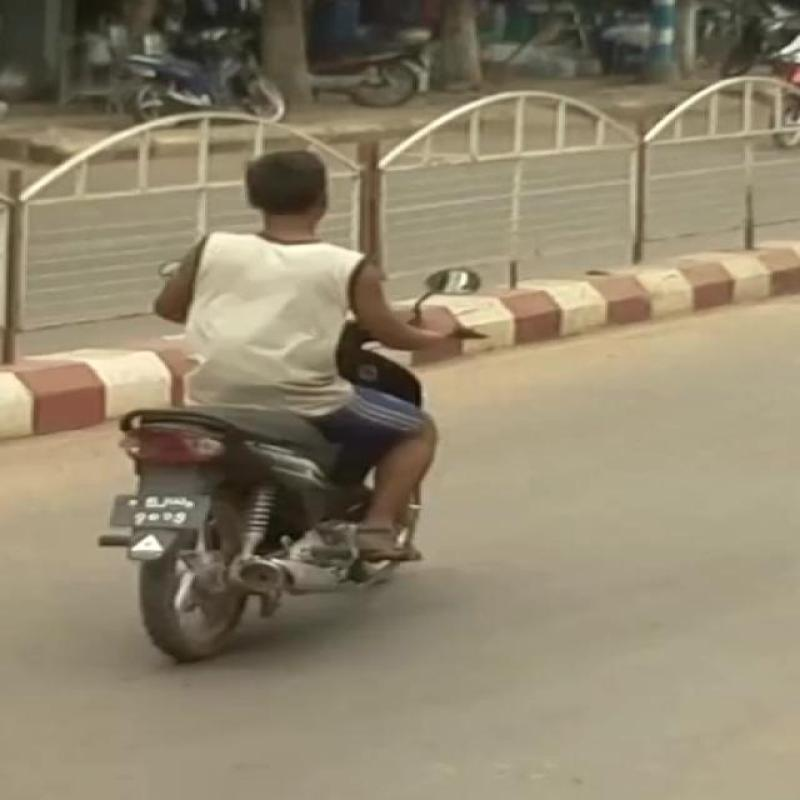nohelmet: (187, 141, 391, 223)
